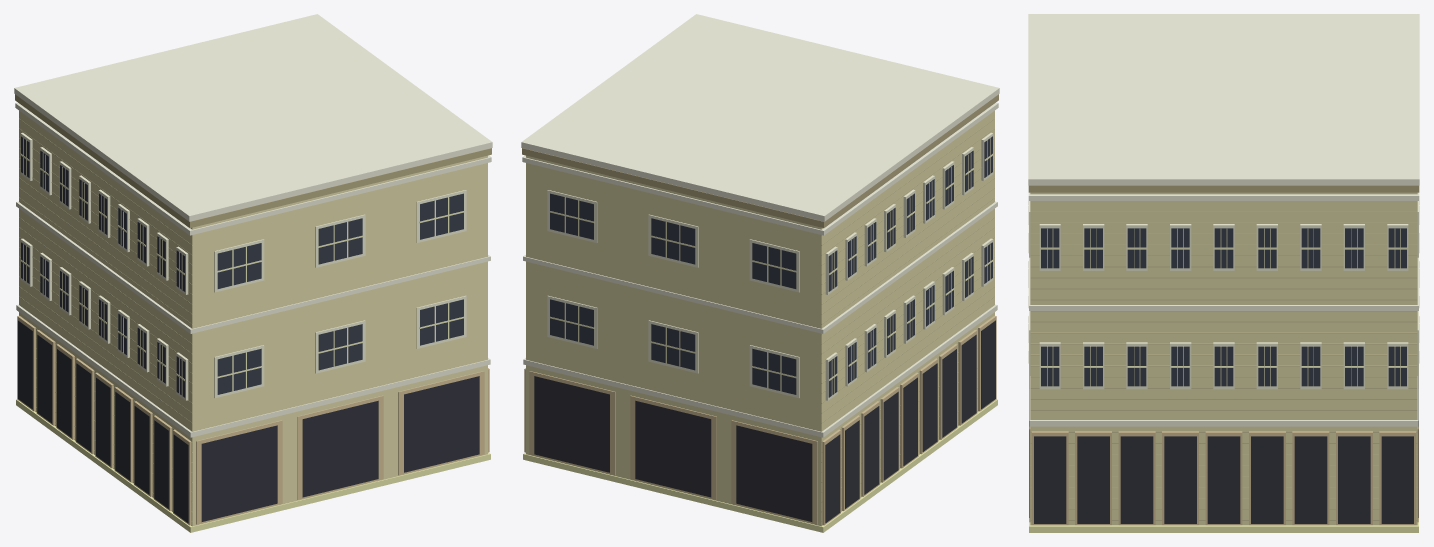
The model's file is ArrivalEastFacade.obj.
The picture shows the model from 3 angles, left to right: view 1: azimuth 30°, elevation 25°; view 2: azimuth 150°, elevation 25°; view 3: azimuth 270°, elevation 25°; orthographic projection. The views are drawn at different scales.
Parts seen in each view (by area): view 1: ArrivalEastFacade; view 2: ArrivalEastFacade; view 3: ArrivalEastFacade.
Part boxes in pixels (x1=…): ArrivalEastFacade: x1=14, y1=14, x2=492, y2=532; ArrivalEastFacade: x1=521, y1=14, x2=999, y2=532; ArrivalEastFacade: x1=1028, y1=14, x2=1419, y2=532.
Bounding box in the file's own units: 2 × 2 × 2.
